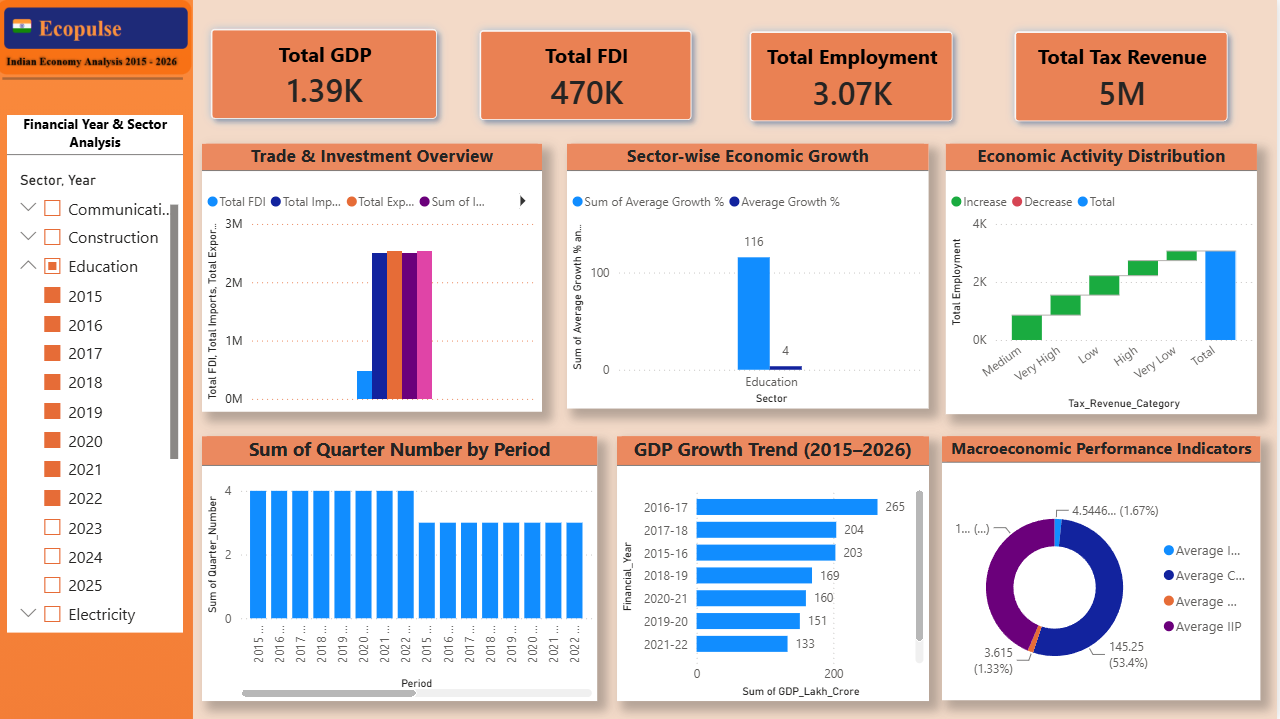

What the dashboard file says about the page in this screenshot:
{"tool":"powerbi","page":{"name":"Page 1","canvas":[1280,720],"ordinal":0},"visuals":[{"type":"cardVisual","fields":{"Data":["Sum(Economic_Data.Growth_%)"]},"box":[243.3,88.3,258.3,145],"z":0},{"type":"cardVisual","fields":{"Data":["Data Dictionary.Total Employment"]},"box":[490,88.3,261.7,145],"z":1000},{"type":"cardVisual","fields":{"Data":["Data Dictionary.Total GDP"]},"box":[0,88.3,258.3,145],"z":2000},{"type":"cardVisual","fields":{"Data":["Data Dictionary.Total Exports"]},"box":[740,88.3,266.7,145],"z":3000},{"type":"textbox","box":[331.4,0,720,155],"z":4000},{"type":"slicer","title":"Financial Year & Sector Analysis","fields":{"Values":["Economic_Data.Sector","Economic_Data.Financial_Year"]},"box":[1035.7,232.9,220,457.1],"z":5000},{"type":"clusteredBarChart","title":"GDP Growth Trend (2015–2026)","fields":{"Category":["Economic_Data.Financial_Year"],"Y":["Sum(Economic_Data.GDP_Lakh_Crore)"]},"box":[12.9,232.9,341.4,235.7],"z":6000},{"type":"areaChart","title":"GDP Contribution by Sector","fields":{"Category":["Economic_Data.Sector"],"Y":["Sum(Economic_Data.GDP_Lakh_Crore)"]},"box":[12.9,478.6,341.4,211.4],"z":7000},{"type":"waterfallChart","title":"Sector-wise Economic Growth","fields":{"Category":["Economic_Data.Sector"],"Y":["Sum(Economic_Data.Growth_%)"]},"box":[384.3,478.6,318.6,211.4],"z":8000},{"type":"lineChart","title":"Exports vs Imports","fields":{"Category":["Economic_Data.Financial_Year"],"Y":["Sum(Economic_Data.Exports_Crore)","Sum(Economic_Data.Imports_Crore)"]},"box":[385.7,232.9,318.6,235.7],"z":9000},{"type":"donutChart","title":"Economic Activity Distribution","fields":{"Category":["Economic_Data.Sector"],"Y":["Sum(Economic_Data.Growth_%)"]},"box":[740,232.9,282.9,228.6],"z":10000},{"type":"pieChart","title":"Macroeconomic Performance Indicators","fields":{"Y":["Data Dictionary.Average Inflation %","Data Dictionary.Average CPI","Data Dictionary.Average Growth %","Data Dictionary.Average IIP"]},"box":[740,478.6,282.9,211.4],"z":11000},{"type":"cardVisual","fields":{"Data":["Data Dictionary.Total Imports"]},"box":[1006.7,90,261.7,145],"z":12000}]}

Visuals, with their boxes in screenshot pixels (x1, y1, x2, y2), scaled from the page's 1280x720 canvas onto the 1280x719 screenshot:
cardVisual - Sum(Economic_Data.Growth_%): detection(243, 88, 502, 233)
cardVisual - Data Dictionary.Total Employment: detection(490, 88, 752, 233)
cardVisual - Data Dictionary.Total GDP: detection(0, 88, 258, 233)
cardVisual - Data Dictionary.Total Exports: detection(740, 88, 1007, 233)
textbox: detection(331, 0, 1051, 155)
"Financial Year & Sector Analysis" slicer: detection(1036, 233, 1256, 689)
"GDP Growth Trend (2015–2026)" clusteredBarChart: detection(13, 233, 354, 468)
"GDP Contribution by Sector" areaChart: detection(13, 478, 354, 689)
"Sector-wise Economic Growth" waterfallChart: detection(384, 478, 703, 689)
"Exports vs Imports" lineChart: detection(386, 233, 704, 468)
"Economic Activity Distribution" donutChart: detection(740, 233, 1023, 461)
"Macroeconomic Performance Indicators" pieChart: detection(740, 478, 1023, 689)
cardVisual - Data Dictionary.Total Imports: detection(1007, 90, 1268, 235)
